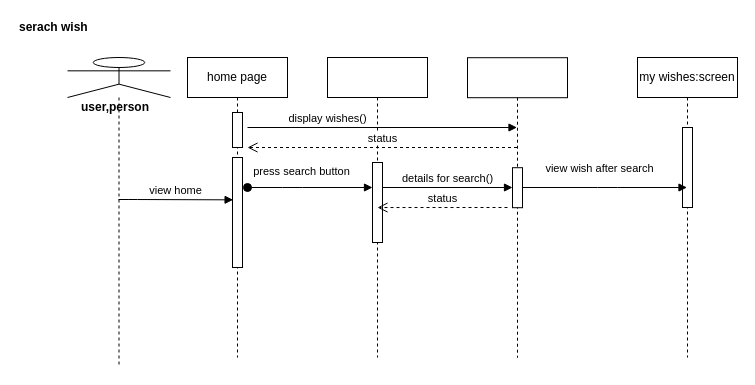
This 755x385 diagram has some shape labels left out. The shapes that lost their labels are listed below. From the top down, each one's centre as x and y in pixels, then its label:
point (377, 207): serach:screen
point (517, 207): server
